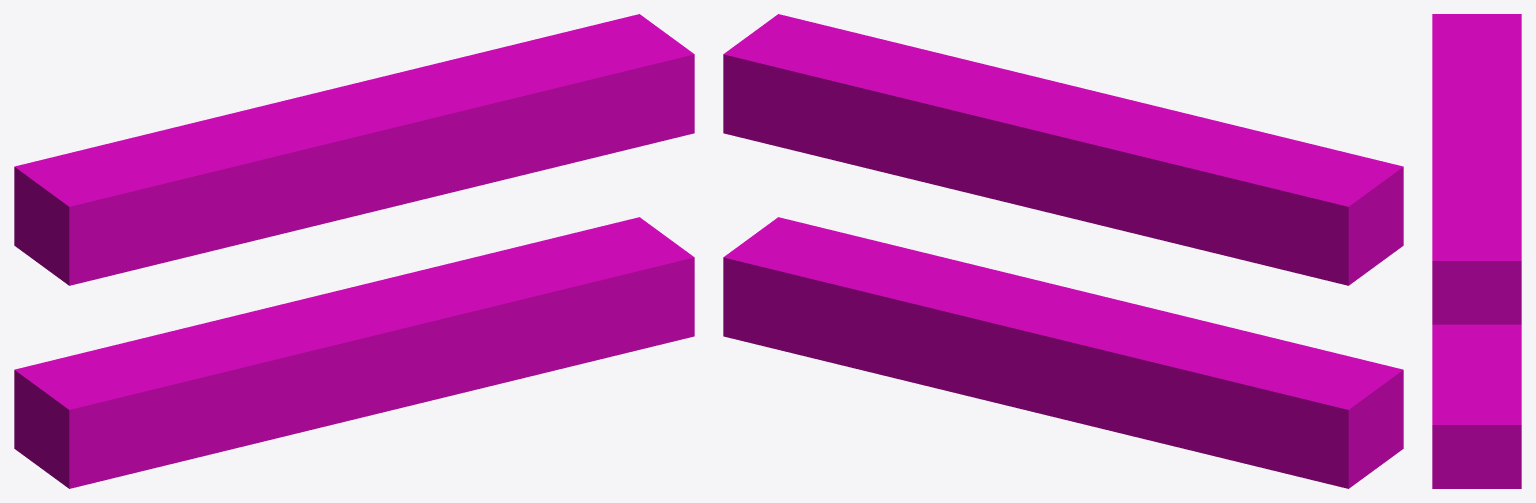
The model's file is equals.fbx.
3 views of the same model, side by side, from view 1: azimuth 30°, elevation 25°; view 2: azimuth 150°, elevation 25°; view 3: azimuth 270°, elevation 25° (orthographic). The views are drawn at different scales.
Parts seen in each view (by area): view 1: typeMesh2; view 2: typeMesh2; view 3: typeMesh2.
Boxes of the visible parts, x1=… form: typeMesh2: x1=14, y1=14, x2=694, y2=488; typeMesh2: x1=723, y1=14, x2=1403, y2=488; typeMesh2: x1=1432, y1=14, x2=1521, y2=488.
Bounding box in the file's own units: 9.83 × 4.24 × 1.5.
